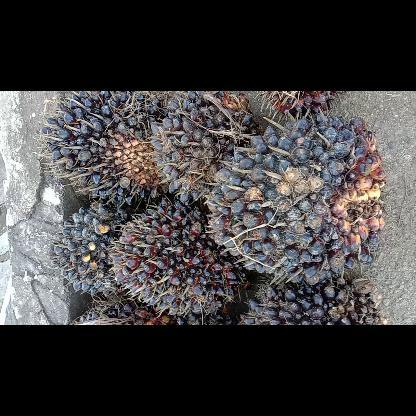TBS mentah: (204, 110, 388, 286), (110, 198, 252, 324), (36, 91, 182, 205), (148, 92, 262, 204), (45, 200, 141, 302), (239, 268, 385, 324)
